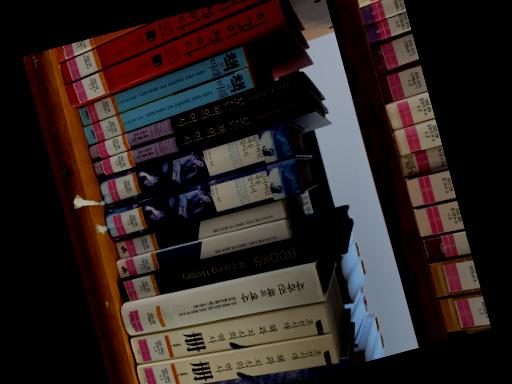book-spine: (64, 0, 284, 106), (87, 71, 306, 161), (91, 91, 311, 177), (98, 122, 293, 209), (58, 0, 261, 83), (103, 158, 303, 241), (117, 231, 345, 302), (120, 265, 323, 336), (77, 46, 246, 125), (83, 68, 252, 145), (129, 303, 329, 364), (114, 200, 285, 259), (136, 335, 337, 384), (116, 221, 288, 278), (54, 22, 150, 61), (204, 360, 348, 384)
